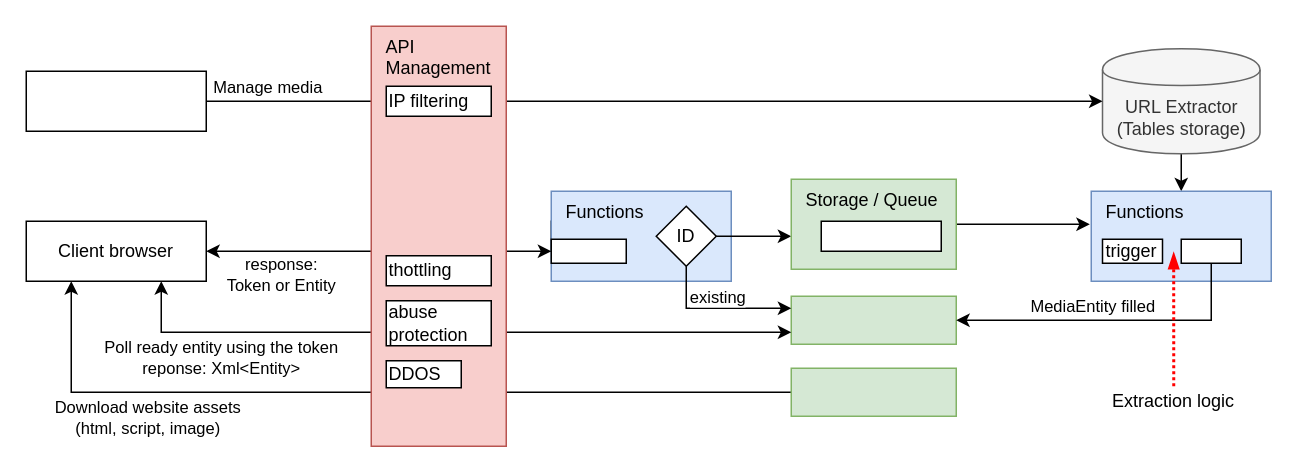
Image size: 1298x473. Some labels were removed from this diagram. Each missing label, with the centre of its shape:
Administrator UI ???: (115,100)
push: (1210,250)
Storage / Blob: (873,391)
Storage / Tables: (873,319)
submit: (588,250)
URL request: (880,235)
